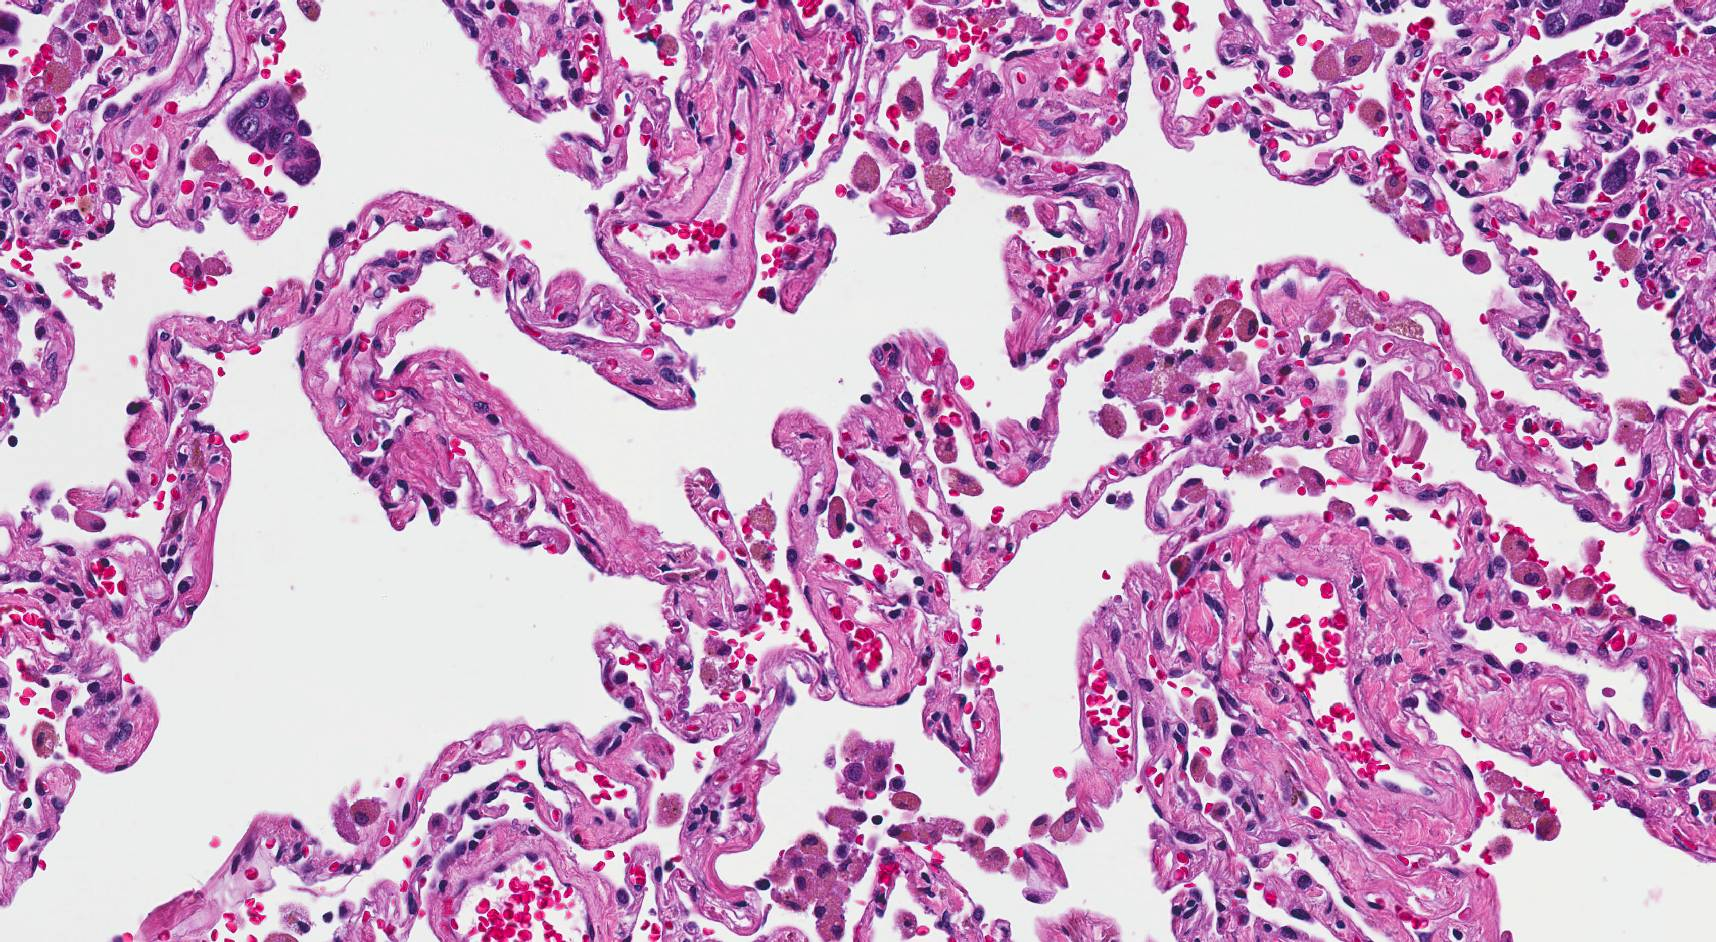stas: (224, 83, 321, 187)
